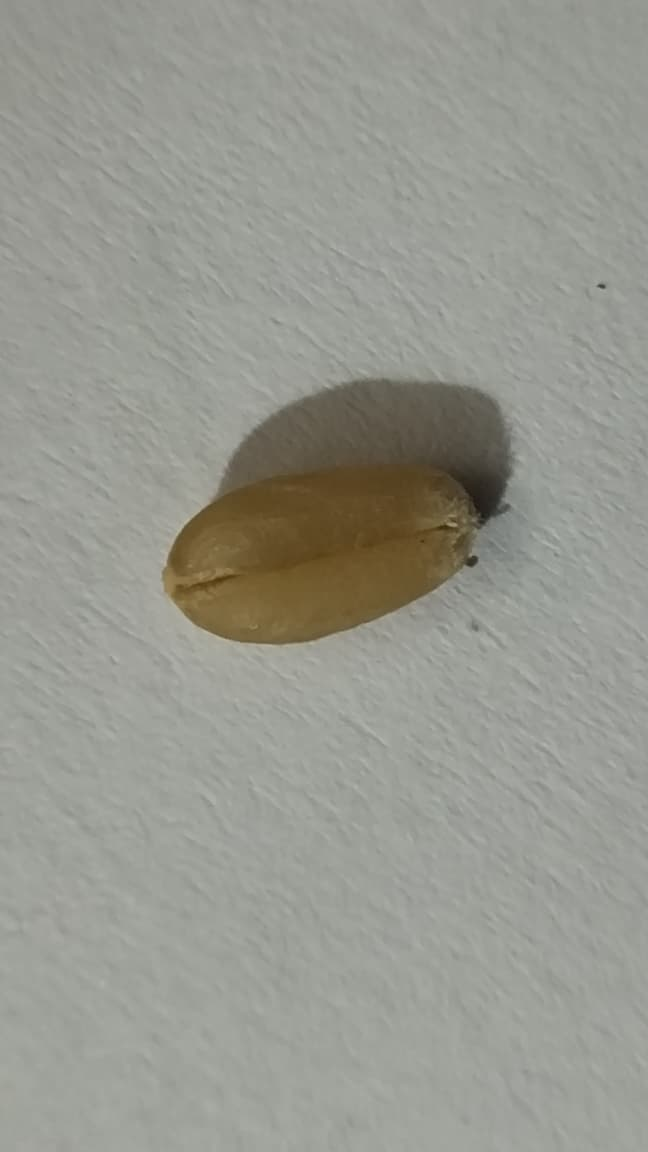healthy: (163, 464, 478, 643)
